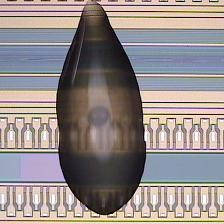PO CONTAMINATION: (52, 1, 151, 219)
